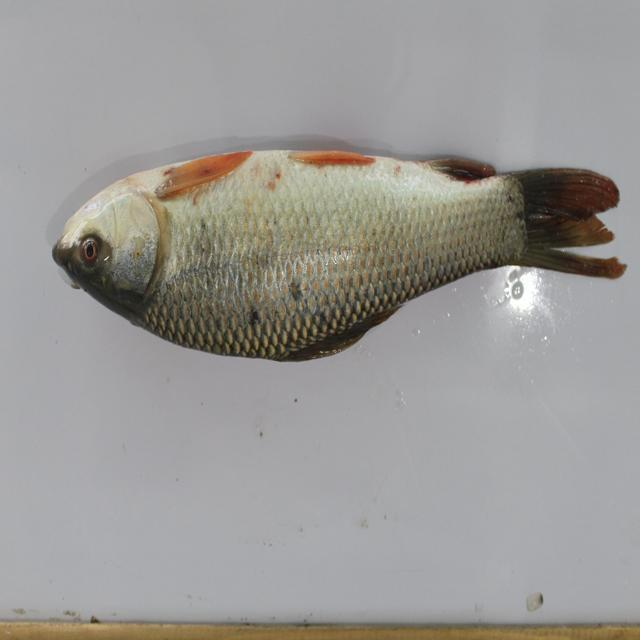Rohu: (44, 121, 617, 365)
